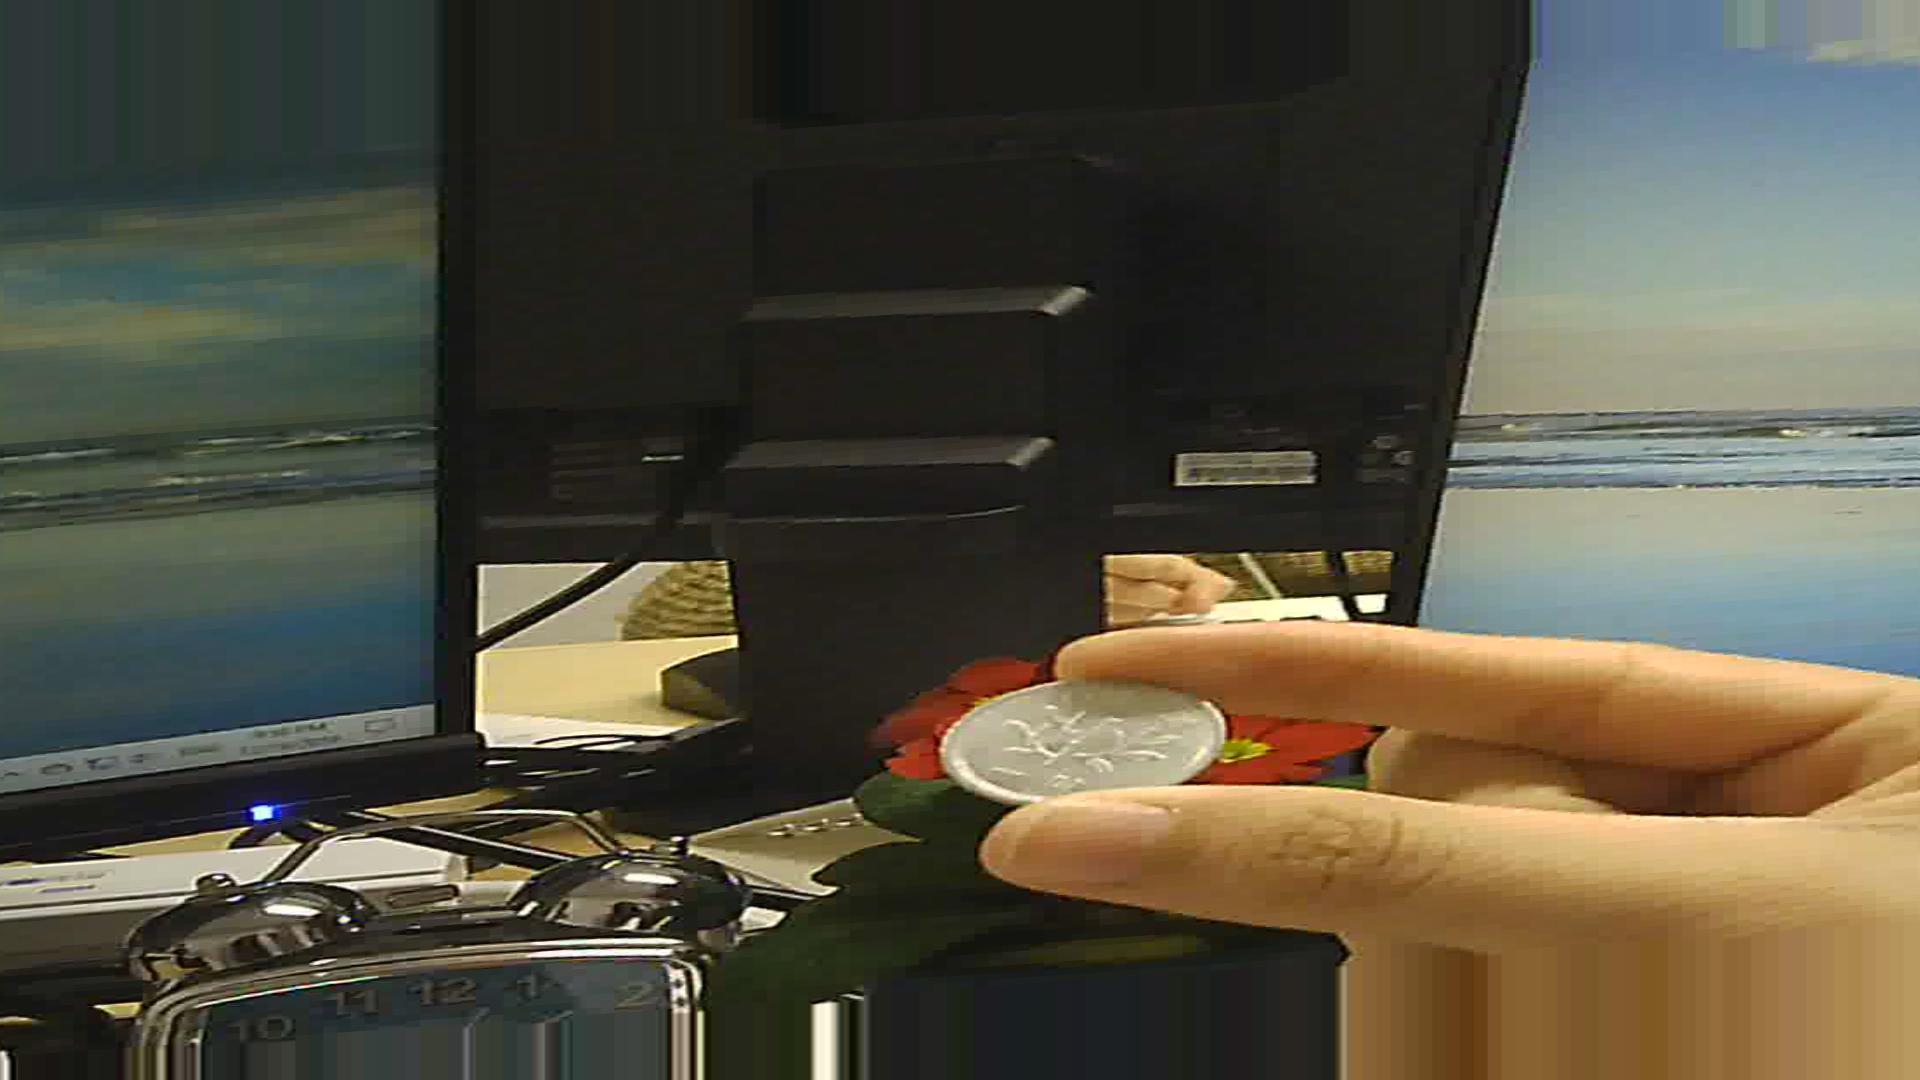1 Yen: (942, 649, 1201, 795)
